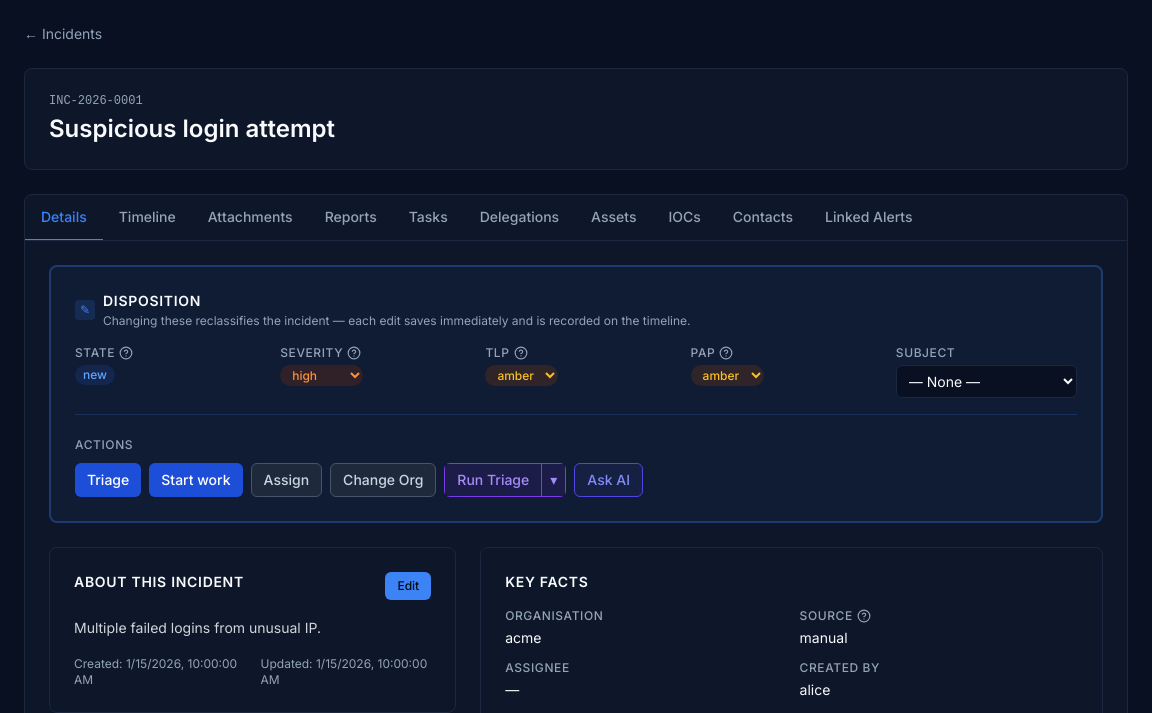
IncidentDetail › shows help affordances for the header fields (#589)
Expected: the dropdown named "Severity" is shown, x1=280 y1=365 x2=363 y2=386
Hover over the button named "Help: TLP".
mouse_move(520, 353)  # box x1=514 y1=346 x2=528 y2=360
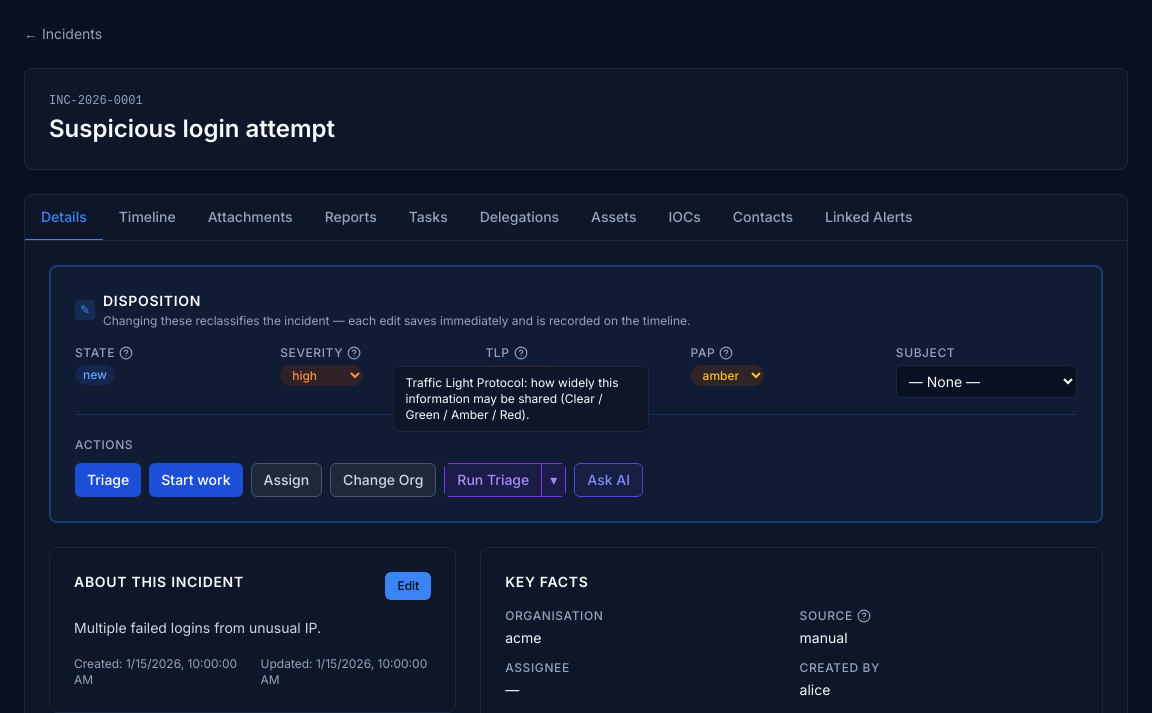
Expected: the tooltip shows "Traffic Light Protocol", x1=406 y1=375 x2=618 y2=422
